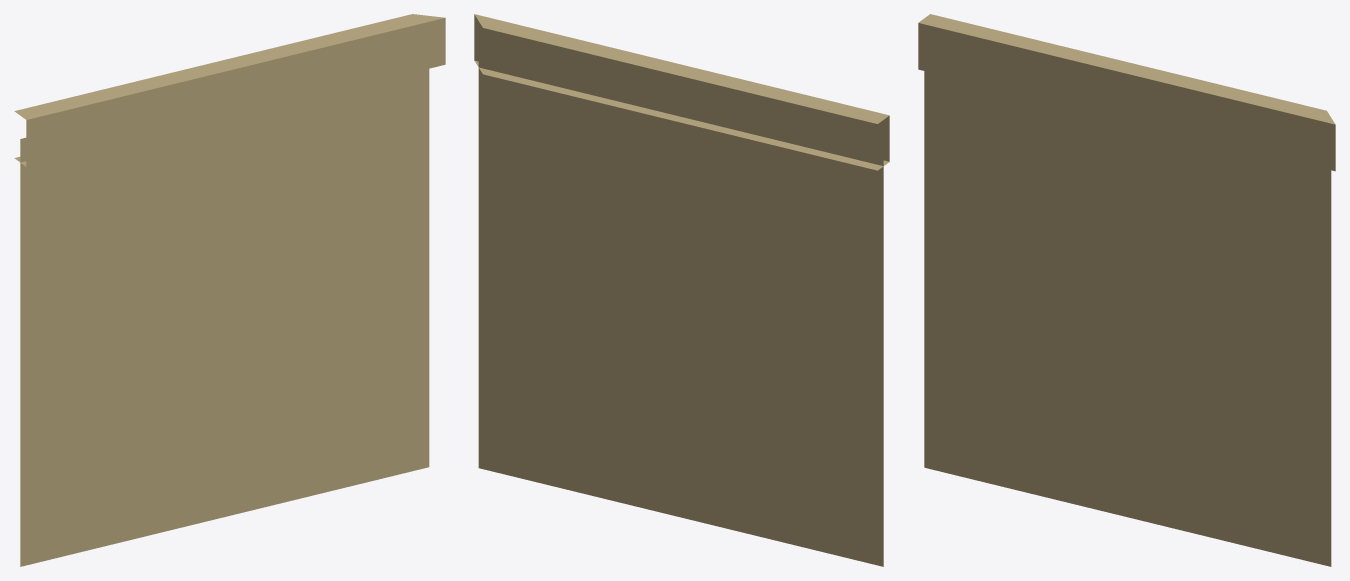
File: Roof_2_1.fbx
The picture shows the model from 3 angles, left to right: view 1: azimuth 30°, elevation 25°; view 2: azimuth 150°, elevation 25°; view 3: azimuth 330°, elevation 25°; orthographic projection.
Visible parts, largest first — view 1: Roof_2_1; view 2: Roof_2_1; view 3: Roof_2_1.
Boxes of the visible parts, x1,y1,x2,y2 form: Roof_2_1: [14, 14, 445, 566]; Roof_2_1: [474, 14, 889, 566]; Roof_2_1: [918, 14, 1335, 566].
Size of the model in its own units: 4.1 by 4.22 by 0.2059.
